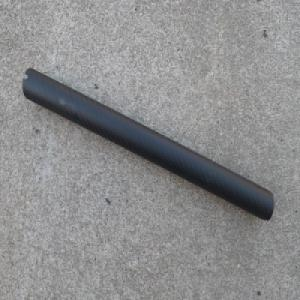LuggagePart: (21, 68, 274, 222)
